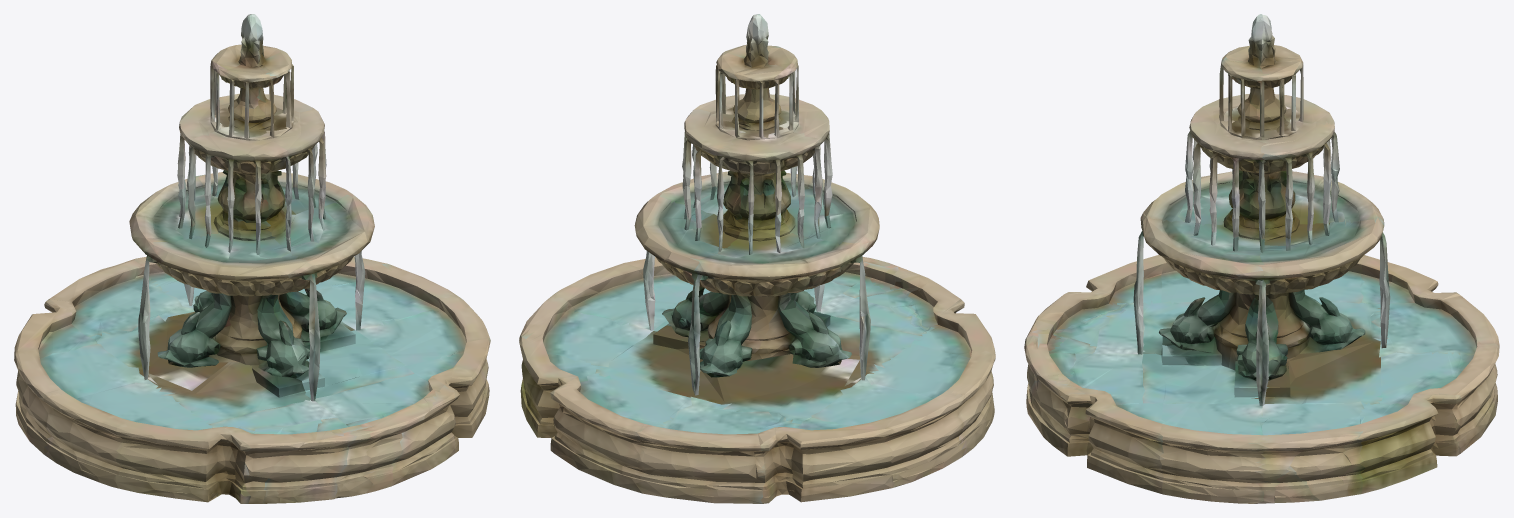
The model's file is fountain.glb.
The picture shows the model from 3 angles, left to right: view 1: azimuth 30°, elevation 25°; view 2: azimuth 150°, elevation 25°; view 3: azimuth 270°, elevation 25°; orthographic projection.
Parts seen in each view (by area): view 1: tmpousmy_tq.obj; view 2: tmpousmy_tq.obj; view 3: tmpousmy_tq.obj.
Boxes of the visible parts, x1,y1,x2,y2 form: tmpousmy_tq.obj: (14,14,490,503); tmpousmy_tq.obj: (519,14,995,503); tmpousmy_tq.obj: (1024,14,1499,503).
Size of the model in its own units: 1.4 by 1.26 by 1.4.
Materials: 1 (1 with a texture image).
